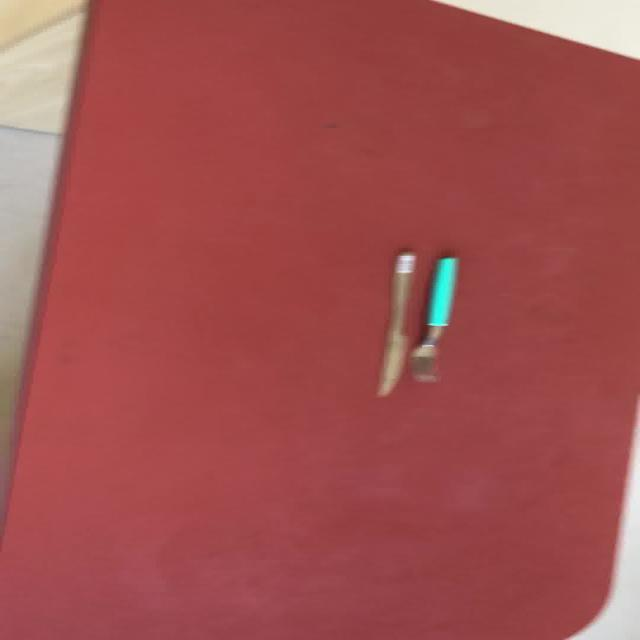fork: (408, 254, 458, 383), (374, 246, 415, 397)
knife fork: (408, 254, 458, 383), (374, 246, 415, 397)
